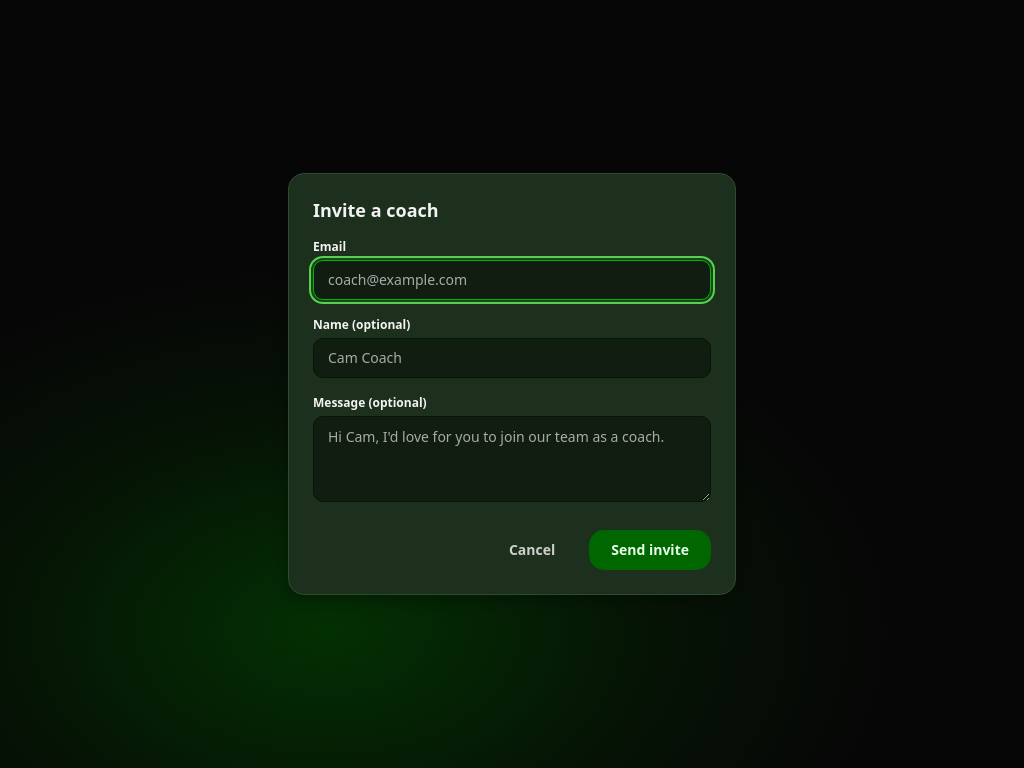
Test case: InviteCoachModal › maps a 409 COACH_ALREADY_ASSIGNED to a specific message and stays open
In the field labelled "Email": (512,280) [313,260,711,300], type "cam@example.com"
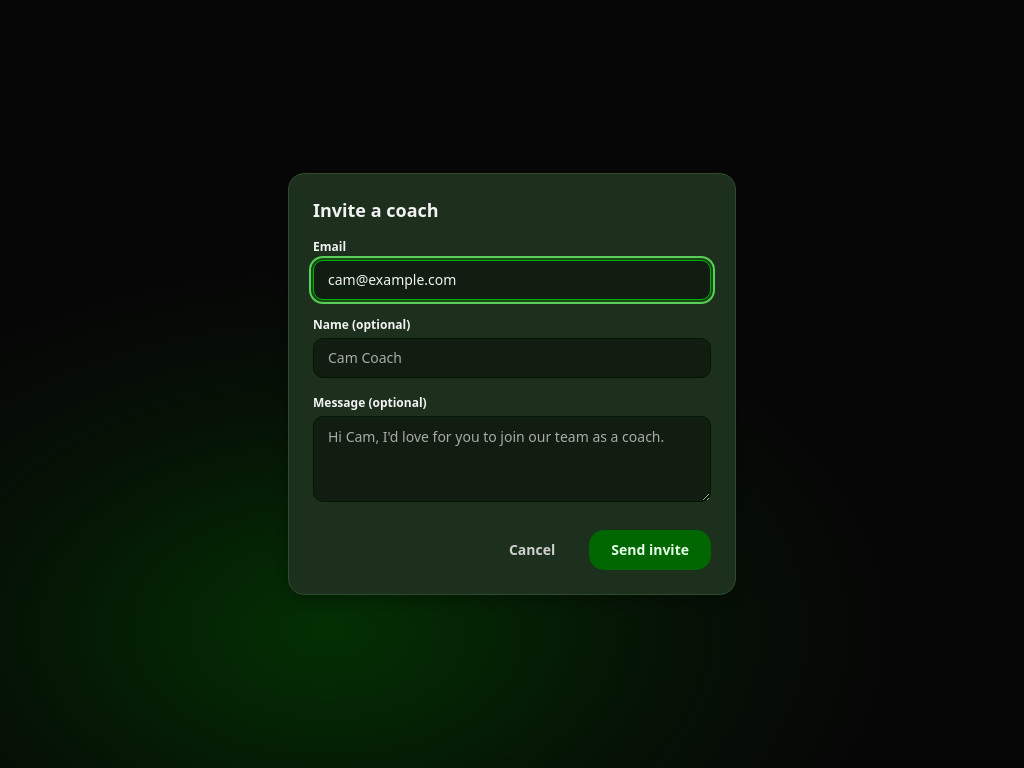
Click the button "Send invite": (650,550) [589,530,711,570]
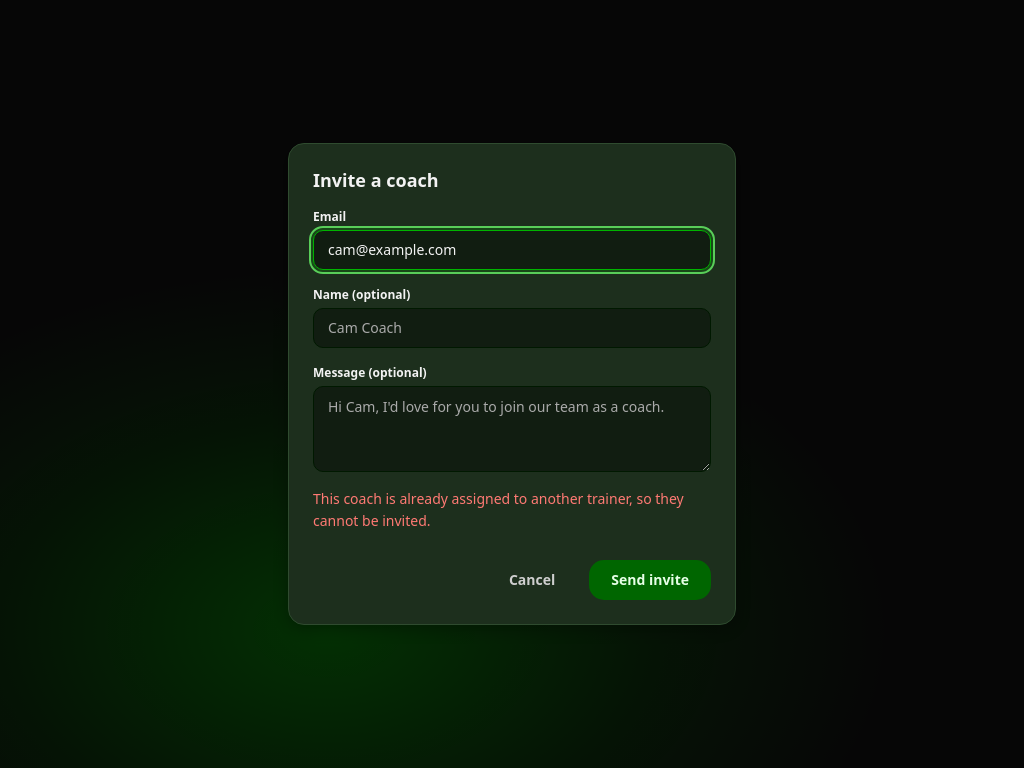
Check: the message shows "already assigned to another trainer", box [313,489,684,530]
